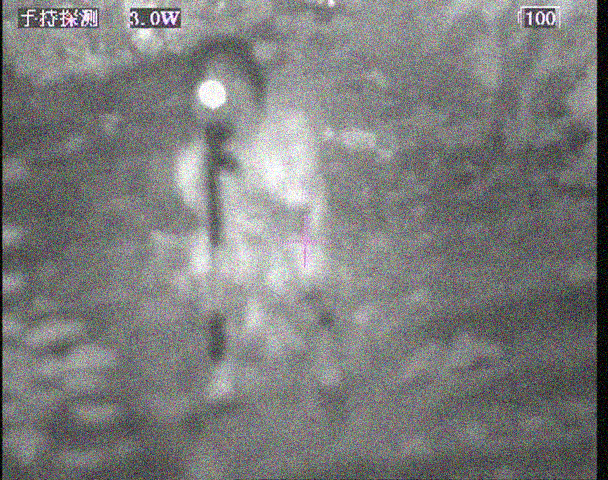my: (197, 80, 228, 109)
